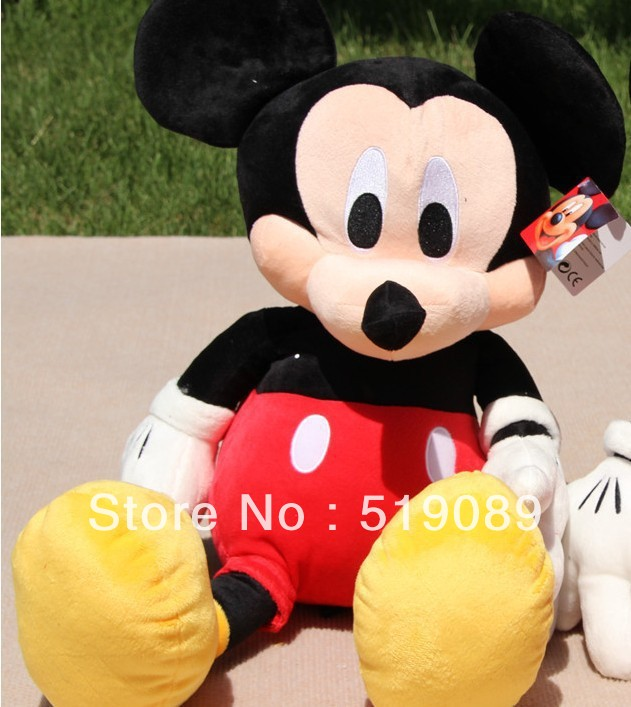Mickey: (128, 1, 631, 362)
